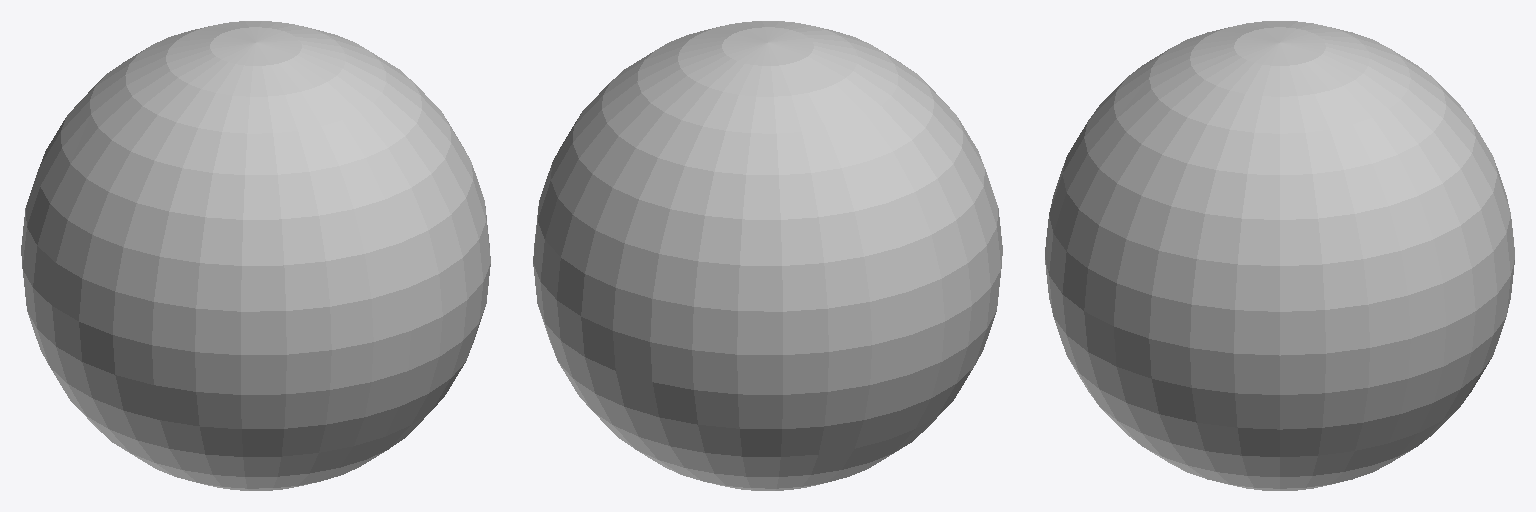
The model's file is camera1.obj.
3 renders of one model, left to right at view 1: azimuth 30°, elevation 25°; view 2: azimuth 150°, elevation 25°; view 3: azimuth 270°, elevation 25°, orthographic.
Visible parts, largest first — view 1: camera1_Sphere; view 2: camera1_Sphere; view 3: camera1_Sphere.
Part boxes in pixels (bbox=[...]): camera1_Sphere: bbox=[21, 21, 490, 490]; camera1_Sphere: bbox=[533, 21, 1002, 490]; camera1_Sphere: bbox=[1045, 21, 1514, 490].
Size of the model in its own units: 4.06 by 4.06 by 4.06.